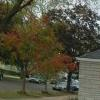Tree: (6, 1, 81, 81)
